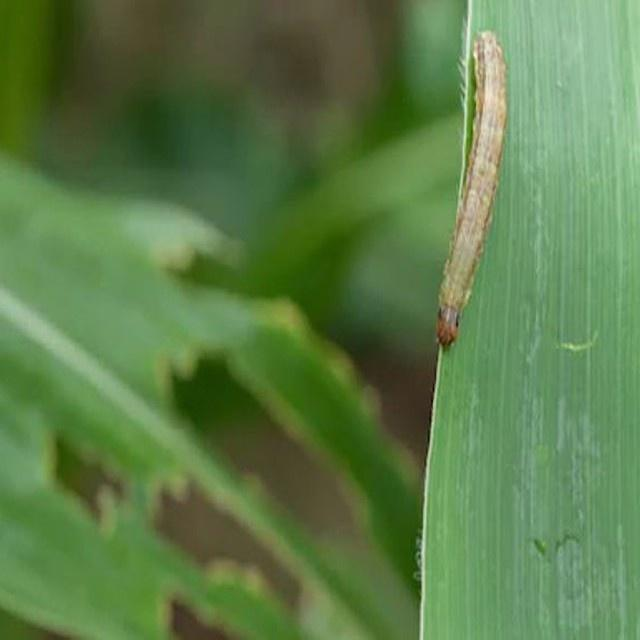gusano_cogollero: (429, 32, 509, 353)
